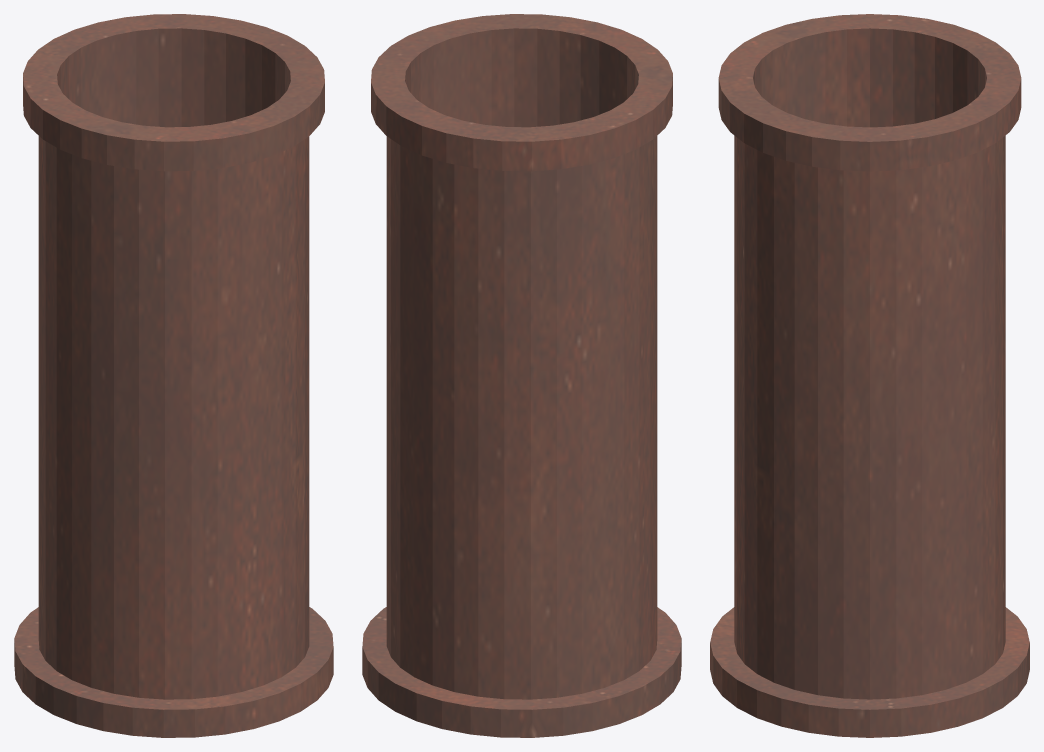
The model's file is Tuberia_1.glb.
The picture shows the model from 3 angles, left to right: view 1: azimuth 30°, elevation 25°; view 2: azimuth 150°, elevation 25°; view 3: azimuth 270°, elevation 25°; orthographic projection.
Visible parts, largest first — view 1: Cylinder; view 2: Cylinder; view 3: Cylinder.
Boxes of the visible parts, x1,y1,x2,y2 form: Cylinder: (14, 14, 333, 737); Cylinder: (362, 14, 681, 737); Cylinder: (710, 14, 1029, 737).
Size of the model in its own units: 2.43 by 4.97 by 2.43.
1 material, 1 textured.
